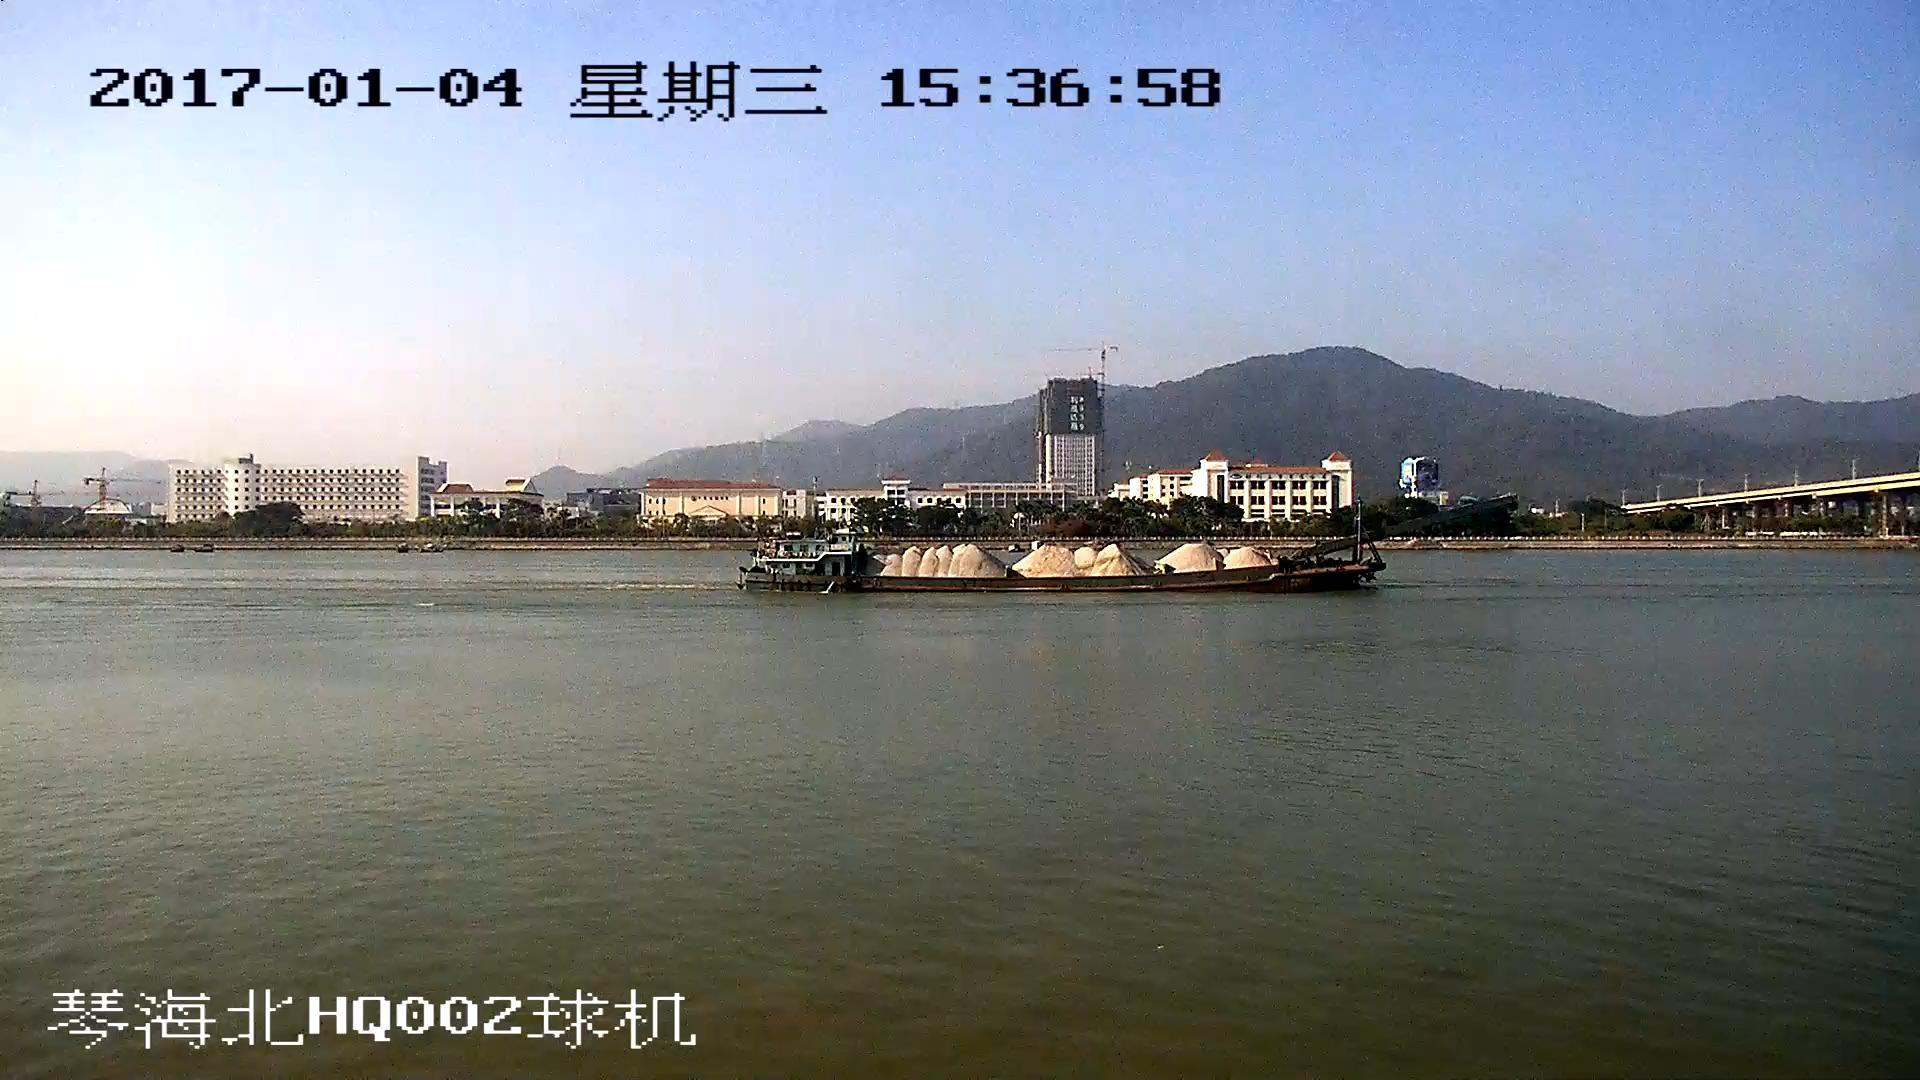Ship: (738, 496, 1515, 597)
